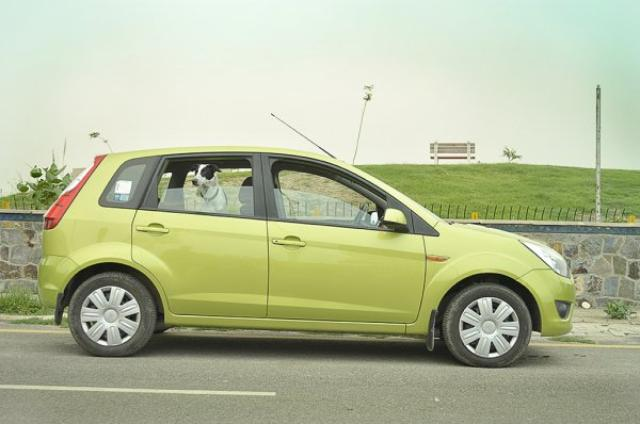ford: (36, 114, 576, 368)
